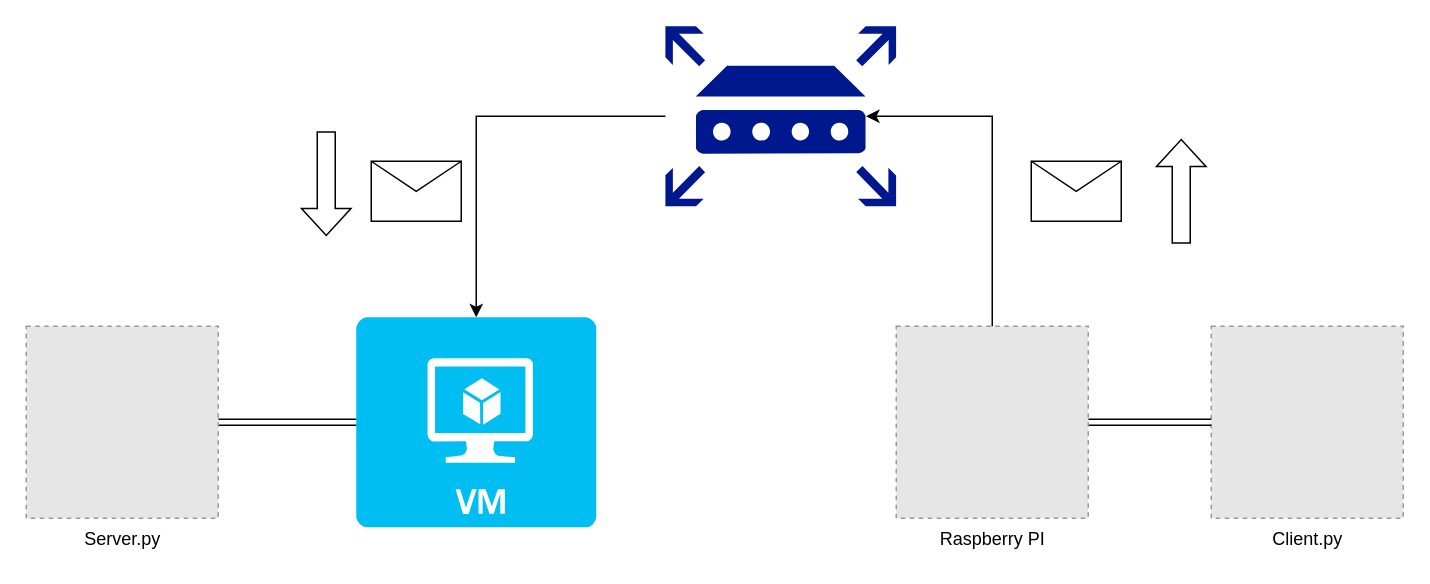
This 1430x584 diagram has some shape labels left out. Grey dashed boxes stand in for pictures. Here are the shapes that lost their labels. From the top down, the centre of each, then its label:
At point 780,116: "PFsense".
At point 476,421: "IPC + HMI".
